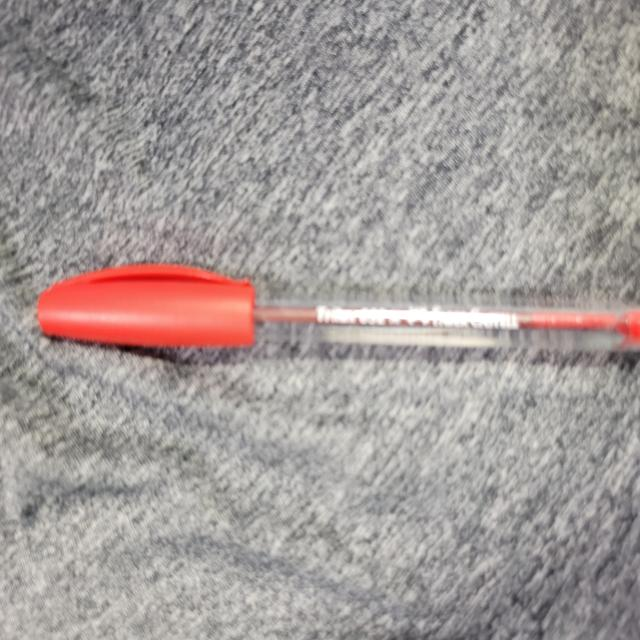caneta: (30, 246, 640, 398)
